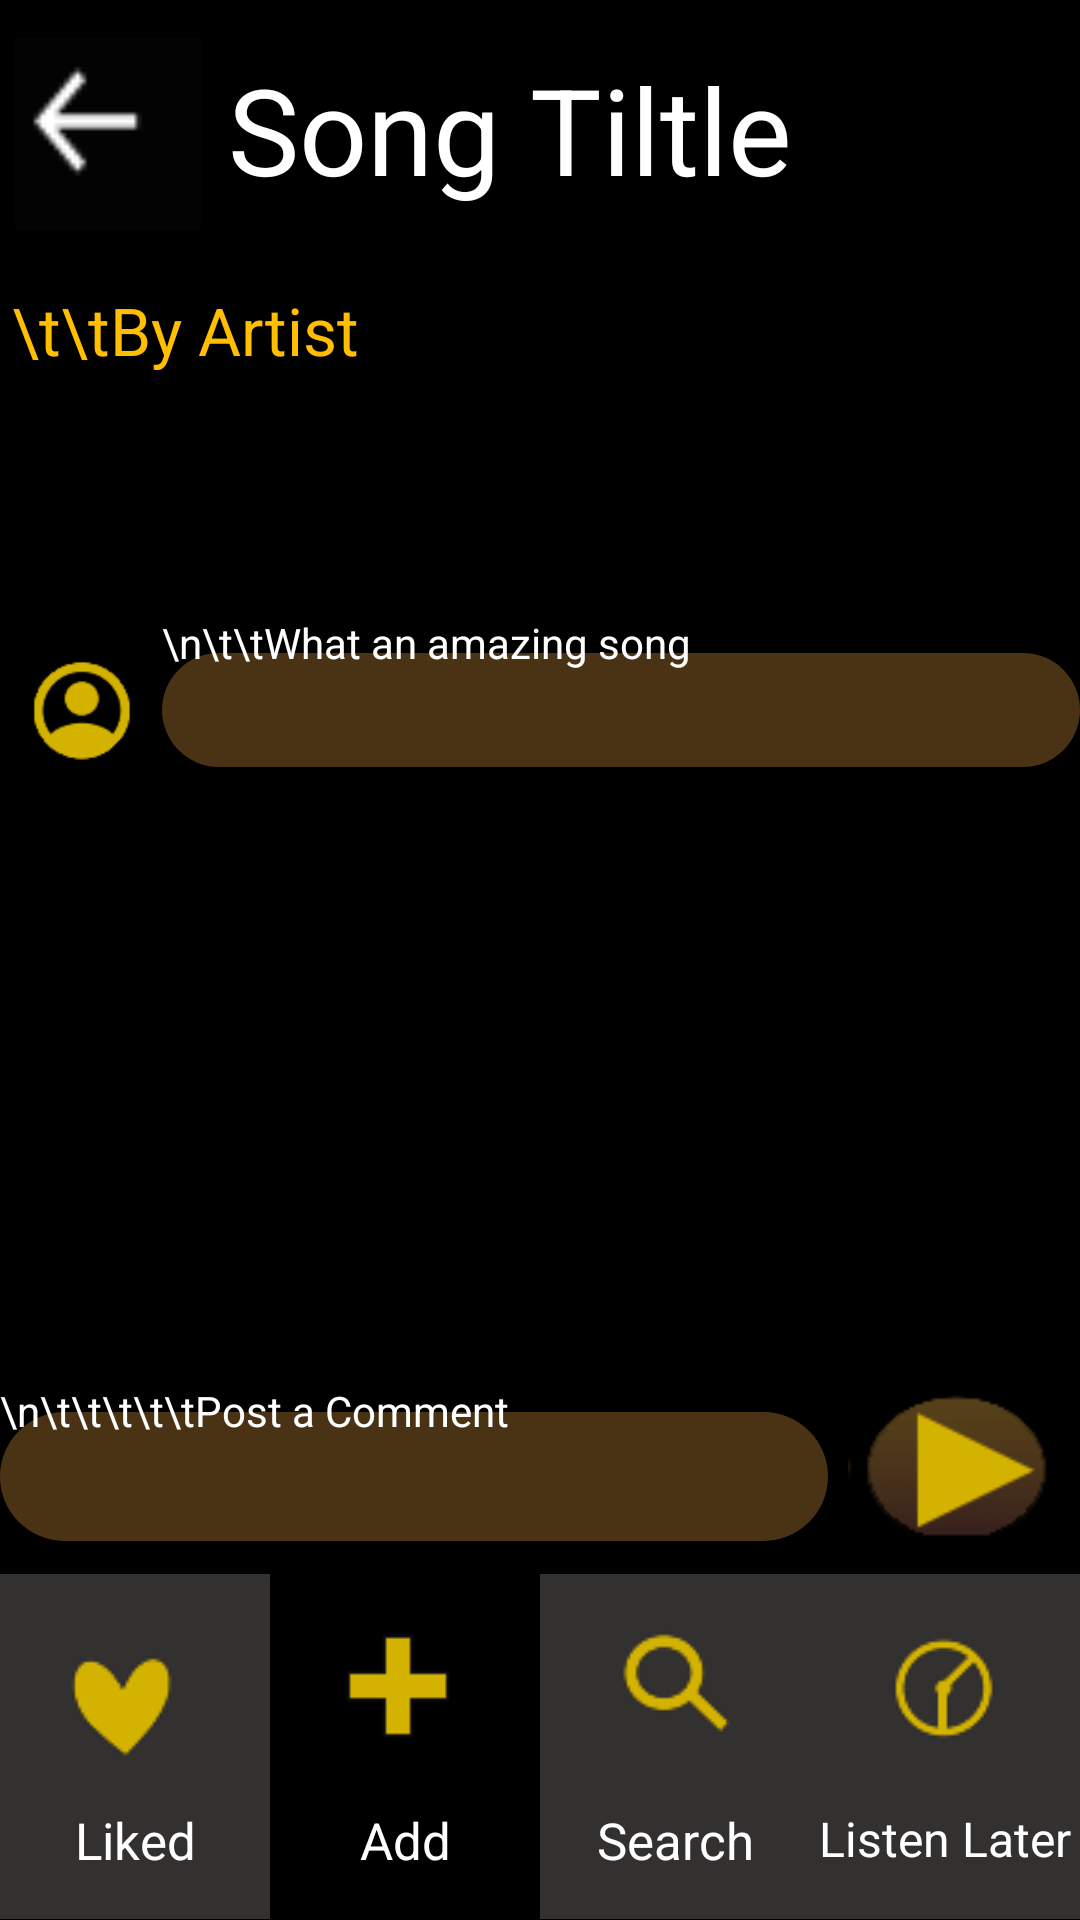

Icons on this 1080*1920 Android screen, each with its box as rect(x1, y1, x2, y2):
back: rect(33, 68, 140, 175)
user: rect(34, 662, 130, 760)
